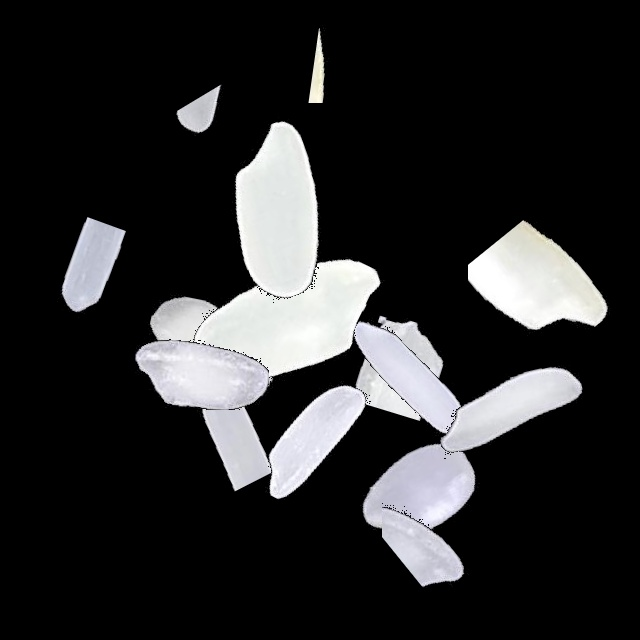Broken: (141, 284, 299, 534), (468, 176, 626, 426), (337, 215, 485, 465), (9, 168, 156, 418), (382, 388, 515, 638), (126, 75, 376, 180), (233, 15, 483, 103)
Full: (283, 248, 533, 498), (88, 220, 338, 470), (158, 191, 408, 441), (294, 367, 544, 617), (150, 86, 400, 336), (75, 248, 325, 498), (188, 315, 438, 565), (386, 283, 636, 533)
